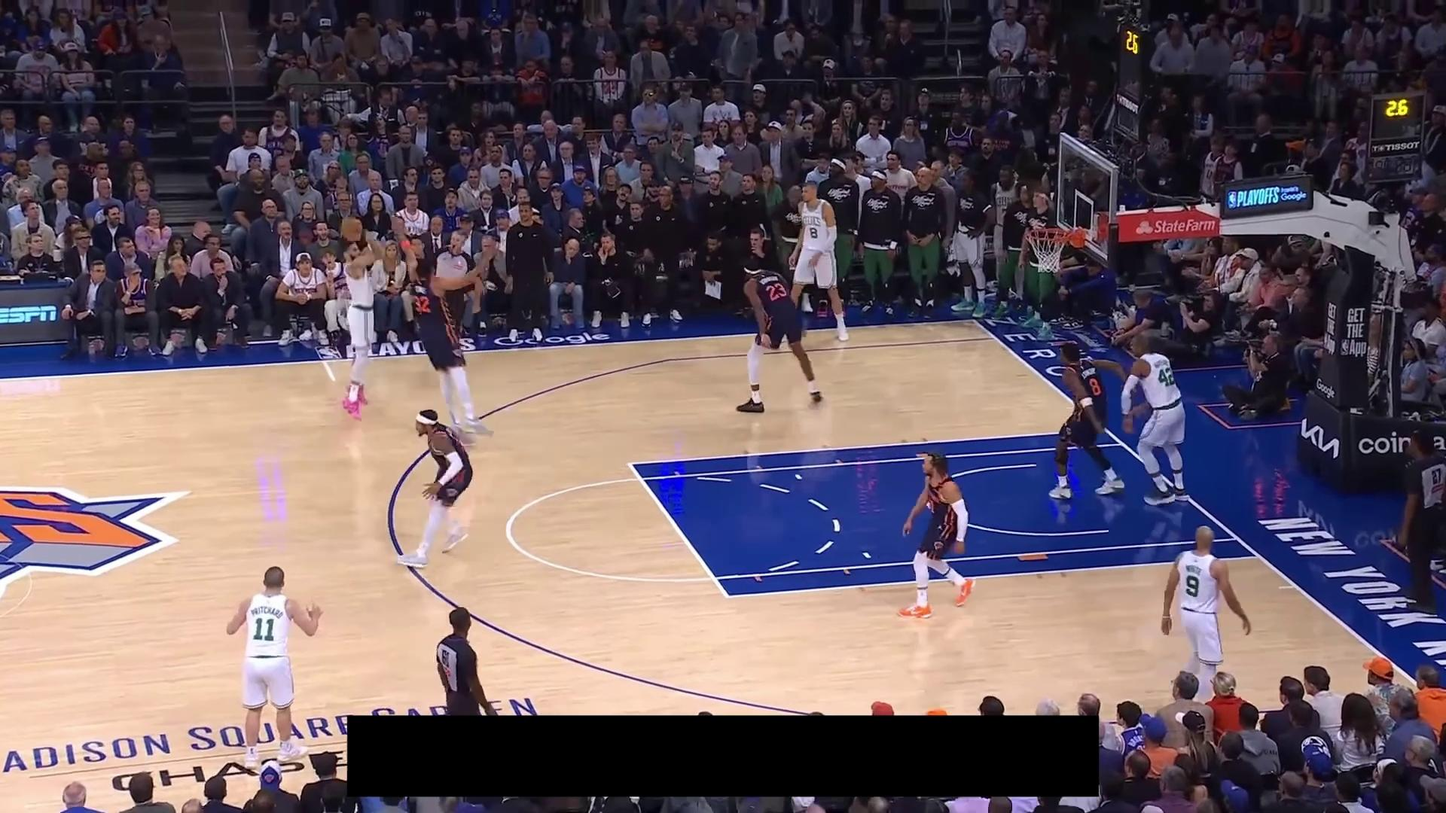ball: (340, 217, 365, 242)
number: (253, 617, 276, 642), (765, 283, 788, 302), (413, 293, 431, 313), (1158, 367, 1176, 386), (1185, 574, 1199, 597), (1088, 376, 1101, 397), (809, 226, 819, 240)
player: (225, 565, 325, 776), (1159, 523, 1253, 701), (735, 249, 824, 414), (895, 448, 977, 619), (392, 408, 475, 570), (1046, 340, 1128, 502), (1119, 330, 1191, 508), (787, 181, 850, 343)
player-jump-shot: (336, 216, 387, 422)
player-shot-block: (396, 232, 498, 450)
referee: (1396, 431, 1445, 612), (423, 227, 491, 350), (435, 607, 498, 715)
rim: (1023, 227, 1070, 242)
